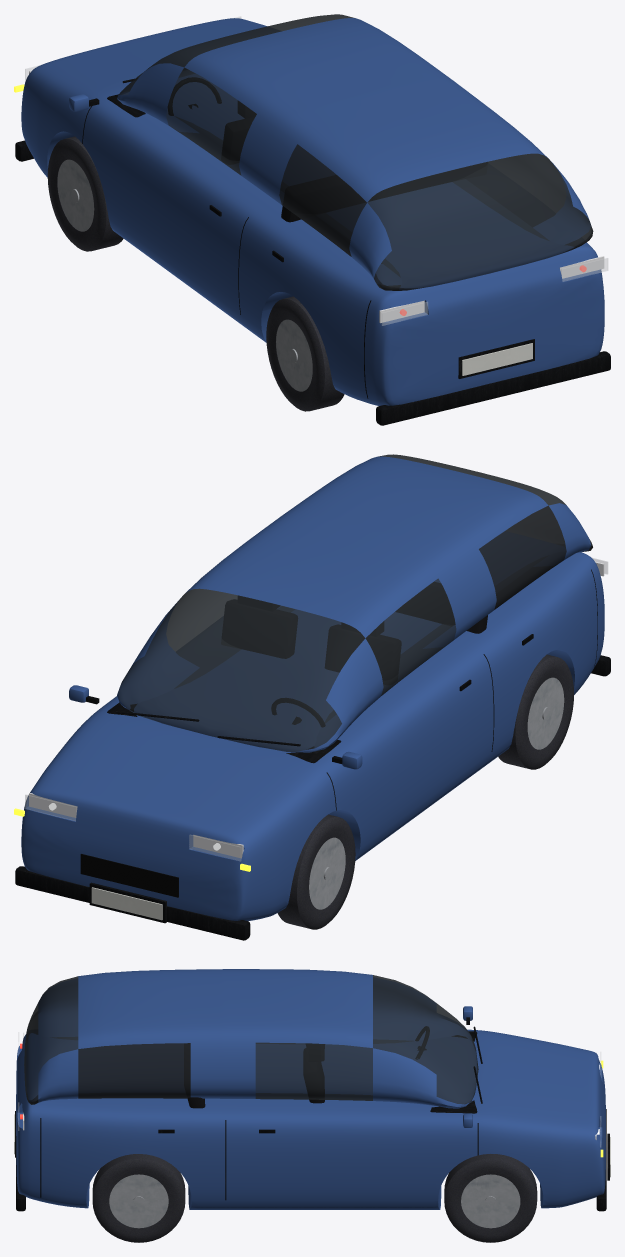
The model's file is suv_blue.gltf.
The picture shows the model from 3 angles, top to bottom: view 1: azimuth 30°, elevation 25°; view 2: azimuth 150°, elevation 25°; view 3: azimuth 270°, elevation 25°; orthographic projection. The views are drawn at different scales.
Visible parts, largest first — view 1: suv_blue; view 2: suv_blue; view 3: suv_blue.
Part boxes in pixels (left/top/right/bottom): suv_blue: left=14, top=14, right=610, bottom=425; suv_blue: left=14, top=454, right=610, bottom=940; suv_blue: left=14, top=969, right=610, bottom=1242.
Bounding box in the file's own units: 2.14 × 1.73 × 4.75.
17 materials, 8 textured.
